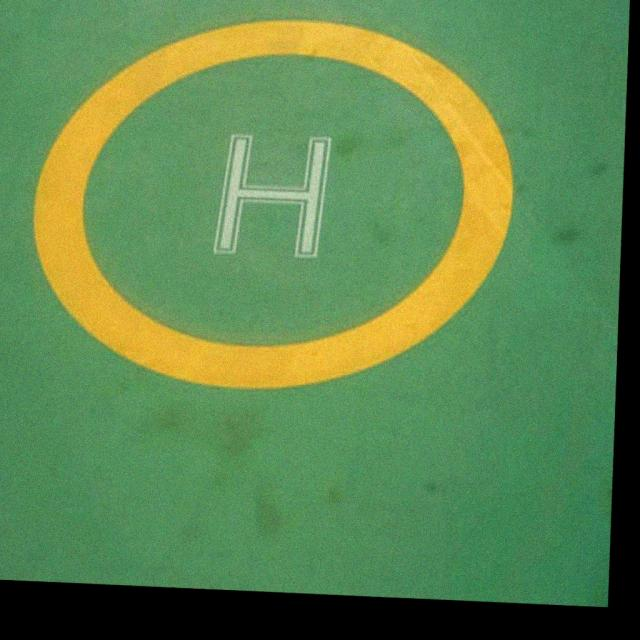helipad: (24, 11, 518, 398)
